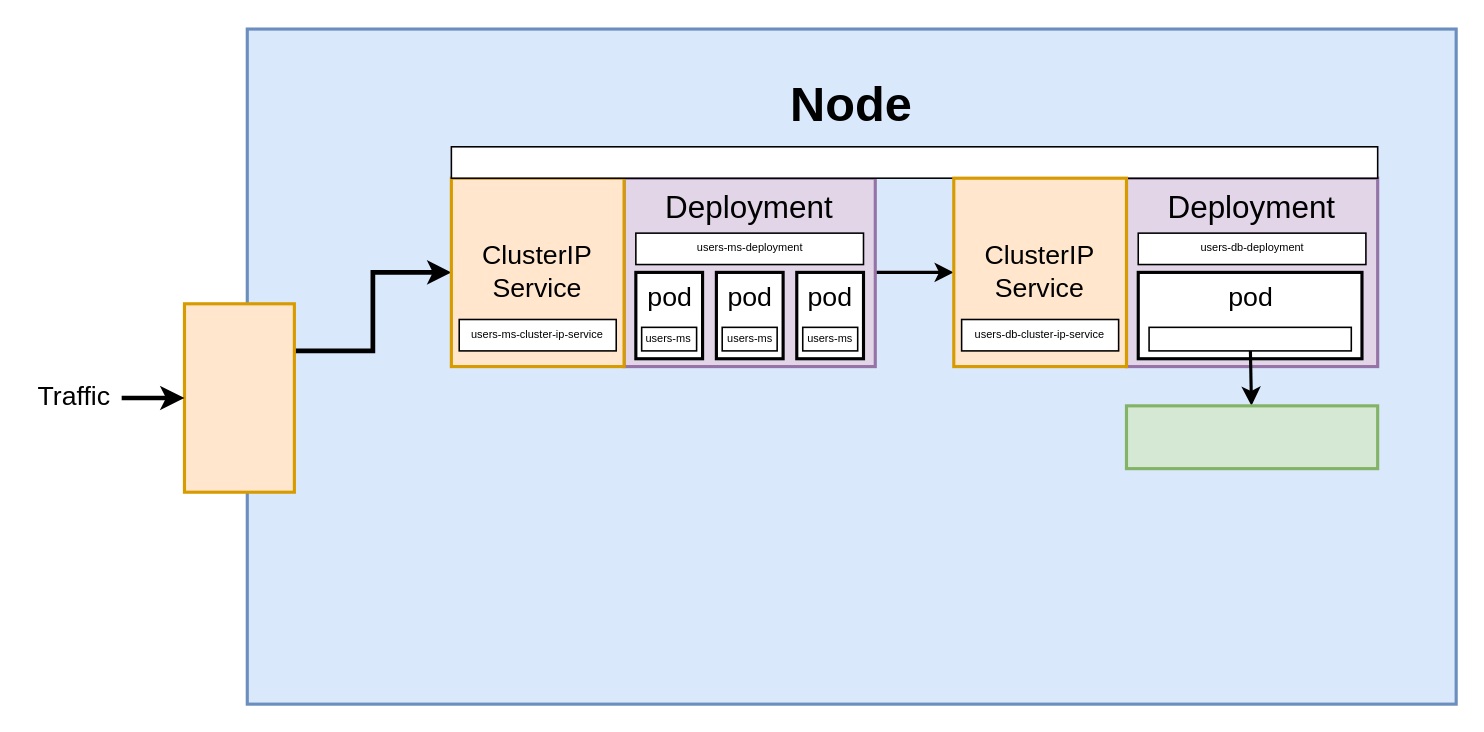
Some shapes in this 1484 by 732 pixel diagram are drawn without their labels. The centre of each missing label's shape, as x and y in pixels:
"DB PVC" goes at point 1251,436.
"Ingress Service" goes at point 238,397.
"postgres" goes at point 1249,338.
"Users Microservice" goes at point 914,161.
